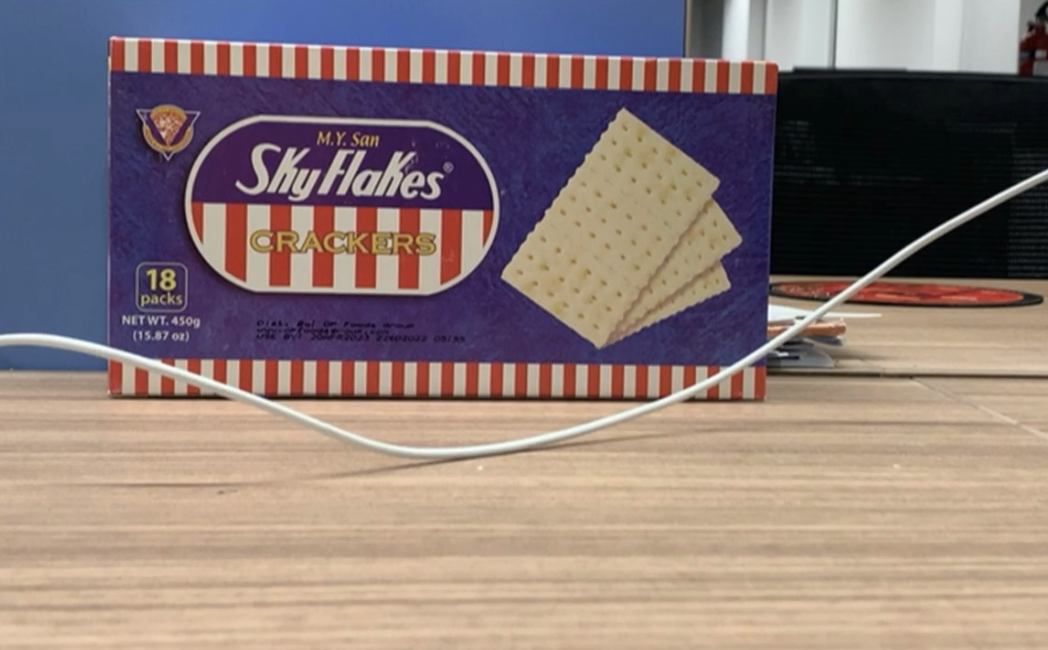crackers_450g: (121, 56, 763, 366)
